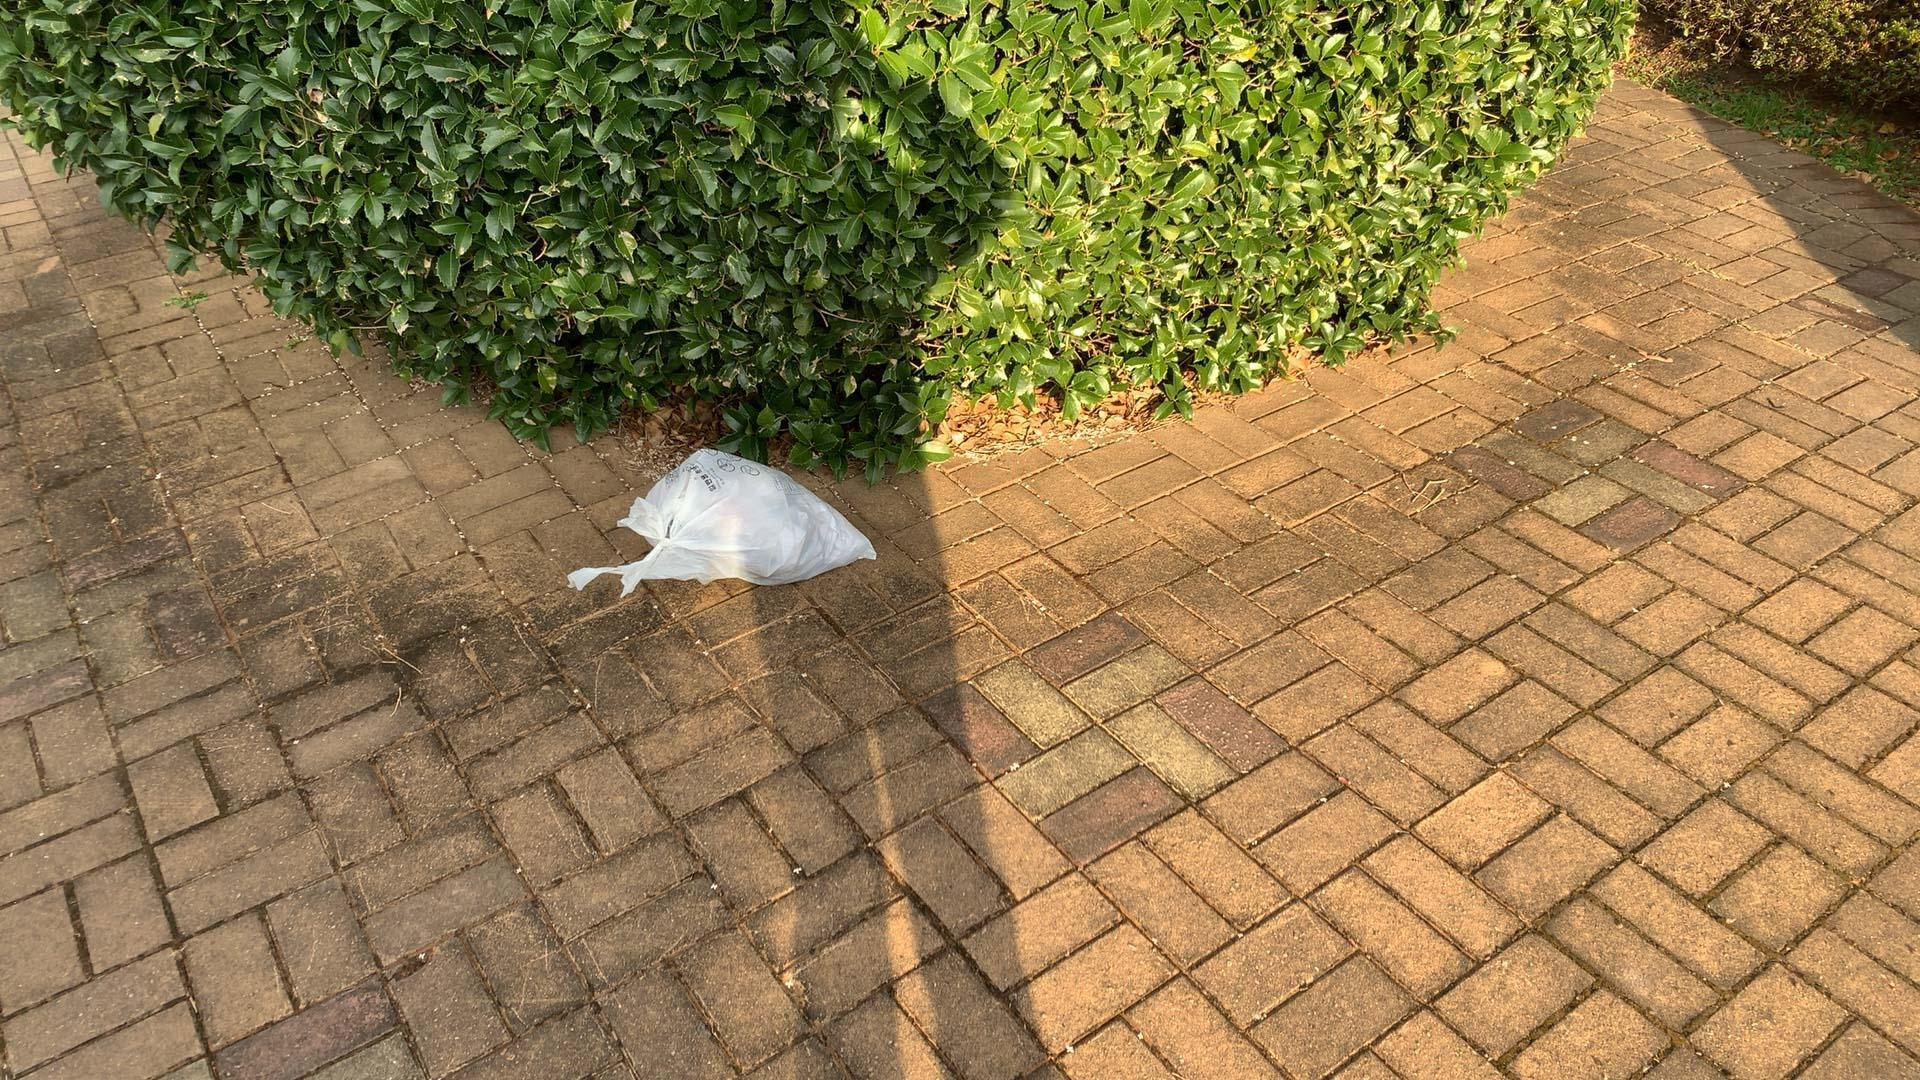white_bag: (538, 426, 893, 628)
